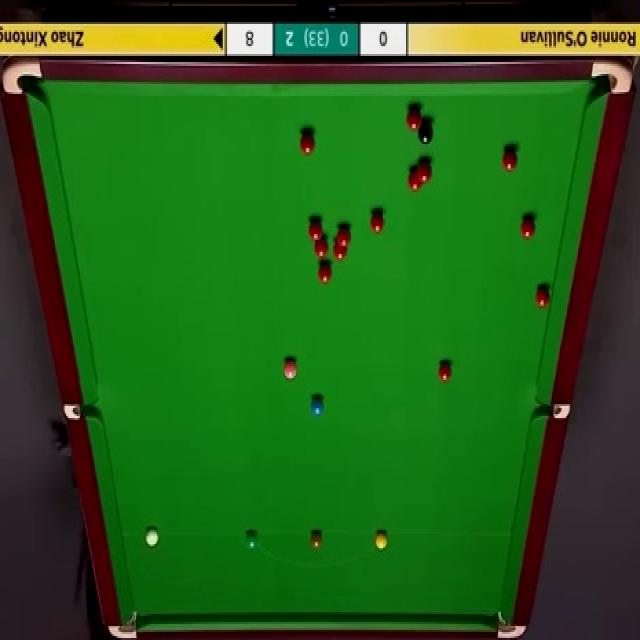black-ball: (416, 122, 434, 146)
blue-ball: (310, 393, 324, 418)
brown-ball: (310, 531, 323, 550)
green-ball: (246, 531, 259, 550)
pink-ball: (282, 356, 298, 378)
red-ball: (298, 128, 316, 159), (502, 148, 522, 174), (533, 282, 552, 309), (369, 208, 387, 236), (521, 216, 538, 242), (315, 262, 334, 284), (332, 238, 348, 264), (406, 105, 421, 131), (416, 160, 432, 184), (310, 232, 326, 255), (405, 169, 421, 191), (336, 225, 352, 247), (309, 221, 322, 242), (438, 362, 452, 380)
white-ball: (145, 526, 158, 548)
yellow-ball: (375, 531, 388, 550)
